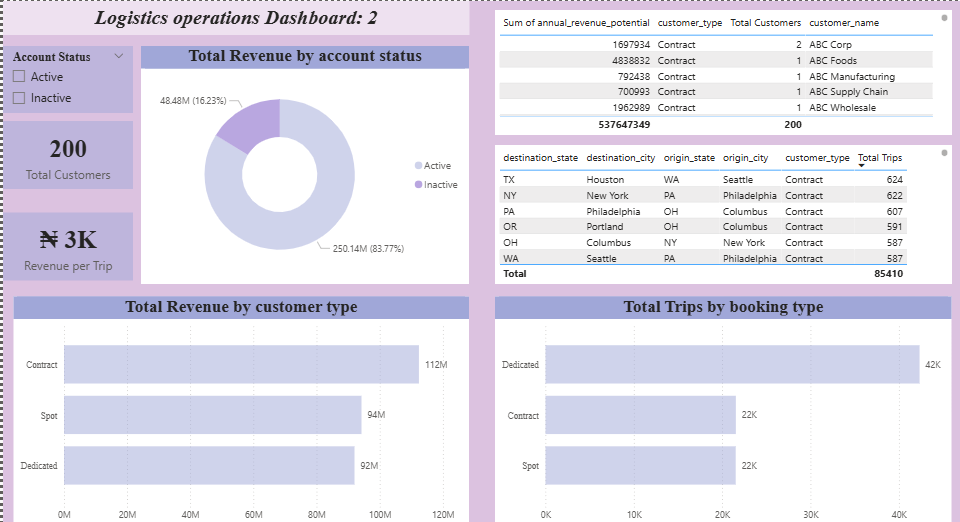

The page's visual inventory and layout, read from the dashboard file:
{"tool":"powerbi","page":{"name":"Revenue, Routes & Customer Intelligence","canvas":[1280,720],"ordinal":1},"visuals":[{"type":"card","fields":{"Values":["DateTable.Revenue per Trip"]},"box":[0,281.7,173.3,90.7],"z":0},{"type":"tableEx","fields":{"Values":["routes.destination_state","routes.destination_city","routes.origin_state","routes.origin_city","customers.customer_type","DateTable.Total Trips"]},"box":[655.8,192.7,608.8,184.6],"z":1000},{"type":"barChart","title":"Total Revenue by customer type","fields":{"Category":["customers.customer_type"],"Y":["DateTable.Total Revenue"]},"box":[14.6,393.5,607.2,309.3],"z":2000},{"type":"card","fields":{"Values":["customers.Total Customers"]},"box":[0,160.3,173.3,90.7],"z":3000},{"type":"tableEx","fields":{"Values":["Sum(customers.annual_revenue_potential)","customers.customer_type","customers.Total Customers","customers.customer_name"]},"box":[655.8,11.3,608.8,166.8],"z":4000},{"type":"barChart","title":"Total Trips by booking type","fields":{"Category":["loads.booking_type"],"Y":["DateTable.Total Trips"]},"box":[655.8,393.5,608.8,309.3],"z":5000},{"type":"donutChart","title":"Total Revenue by account status","fields":{"Category":["customers.account_status"],"Y":["DateTable.Total Revenue"]},"box":[184.6,59.9,437.2,317.4],"z":6000},{"type":"slicer","fields":{"Values":["customers.account_status"]},"box":[0,59.9,173.3,89.1],"z":7000},{"type":"textbox","box":[0,0,621.8,45.3],"z":8000}]}

Visuals, with their boxes on the page's 1280x720 design canvas (x1, y1, x2, y2). These are canvas units, not pixel positions in the 960x522 screenshot, which may show the page scaled, cropped or inside an application window:
card - DateTable.Revenue per Trip: select_region(0, 282, 173, 372)
tableEx - routes.destination_state x routes.destination_city: select_region(656, 193, 1265, 377)
"Total Revenue by customer type" barChart: select_region(15, 394, 622, 703)
card - customers.Total Customers: select_region(0, 160, 173, 251)
tableEx - Sum(customers.annual_revenue_potential) x customers.customer_type: select_region(656, 11, 1265, 178)
"Total Trips by booking type" barChart: select_region(656, 394, 1265, 703)
"Total Revenue by account status" donutChart: select_region(185, 60, 622, 377)
slicer - customers.account_status: select_region(0, 60, 173, 149)
textbox: select_region(0, 0, 622, 45)
